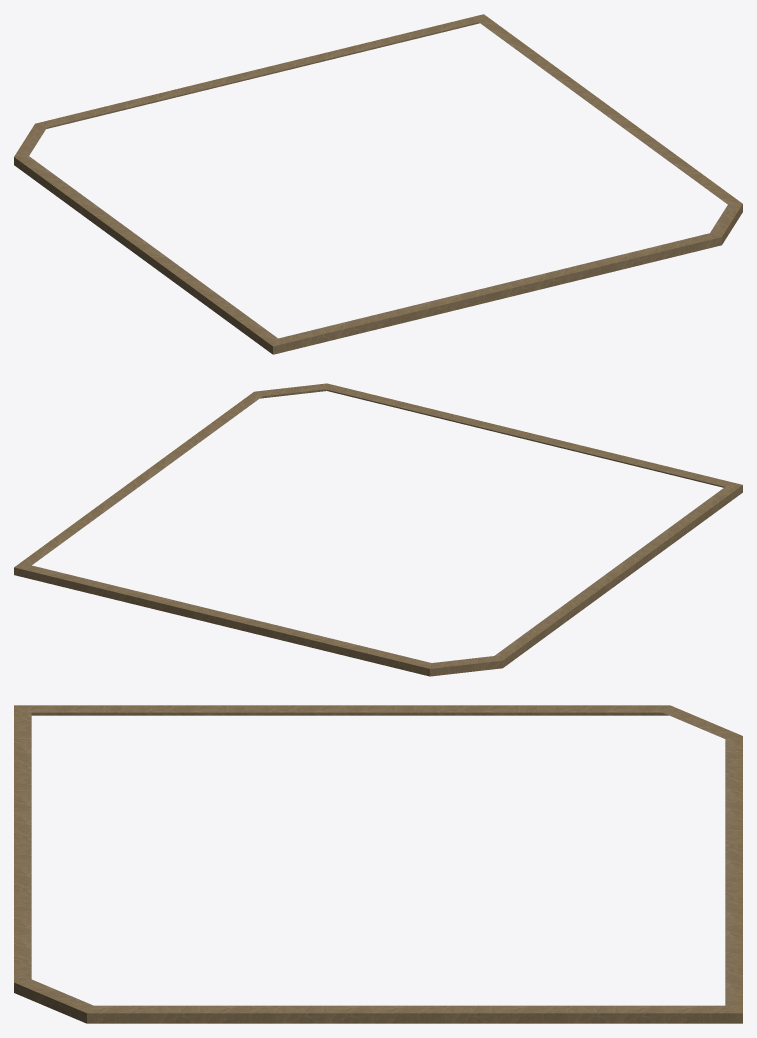
Rendered from Ground13_Terrain_LostTemple_001.FBX.
3 renders of one model, top to bottom at view 1: azimuth 30°, elevation 25°; view 2: azimuth 150°, elevation 25°; view 3: azimuth 270°, elevation 25°, orthographic. The views are drawn at different scales.
Parts seen in each view (by area): view 1: Ground13_Terrain_LostTemple_001; view 2: Ground13_Terrain_LostTemple_001; view 3: Ground13_Terrain_LostTemple_001.
Boxes of the visible parts, left/top/right/bottom form: Ground13_Terrain_LostTemple_001: left=14, top=14, right=742, bottom=354; Ground13_Terrain_LostTemple_001: left=14, top=383, right=742, bottom=676; Ground13_Terrain_LostTemple_001: left=14, top=705, right=742, bottom=1023.
Size of the model in its own units: 738 by 11.64 by 738.
Materials: 1 (1 with a texture image).
